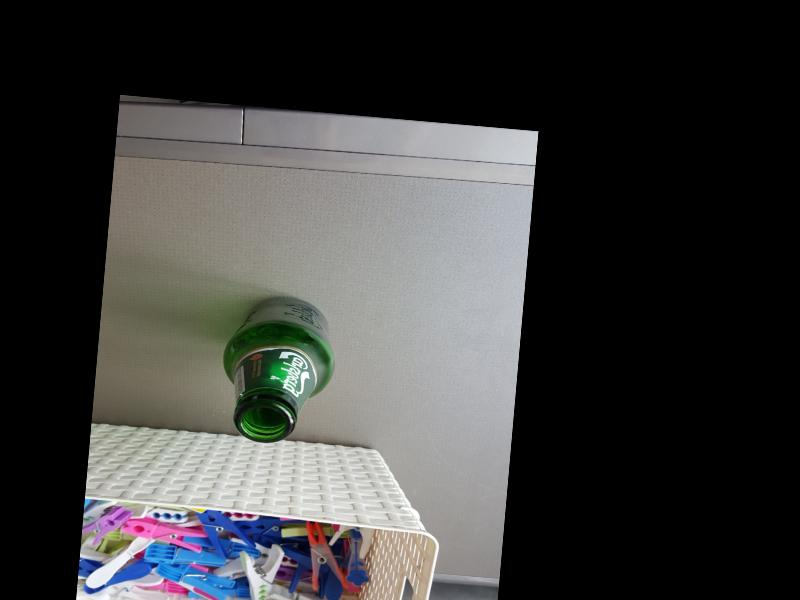Beer: (216, 290, 341, 447)
